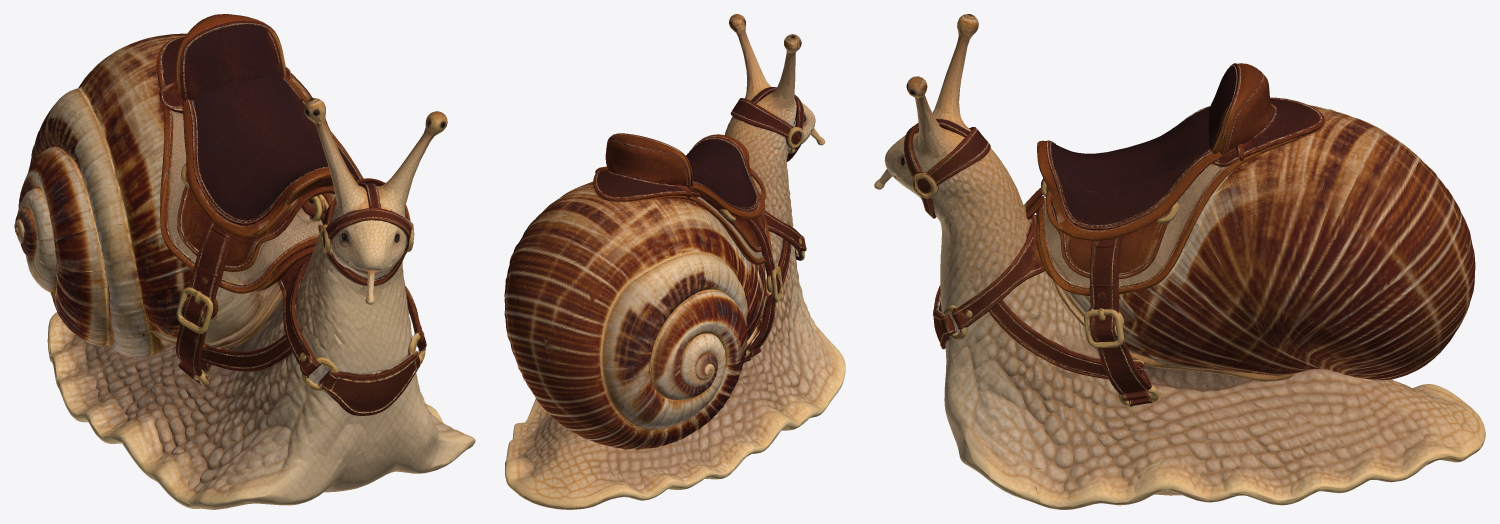
File: snail.glb
3 renders of one model, left to right at view 1: azimuth 30°, elevation 25°; view 2: azimuth 150°, elevation 25°; view 3: azimuth 270°, elevation 25°, orthographic. The views are drawn at different scales.
Size of the model in its own units: 1 by 1.42 by 1.9.
1 material, 1 textured.
